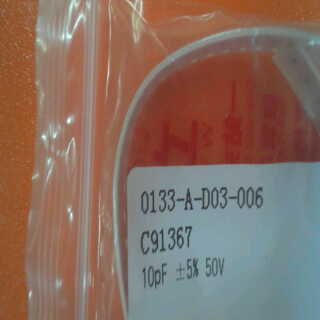10pF: (136, 257, 173, 294)
